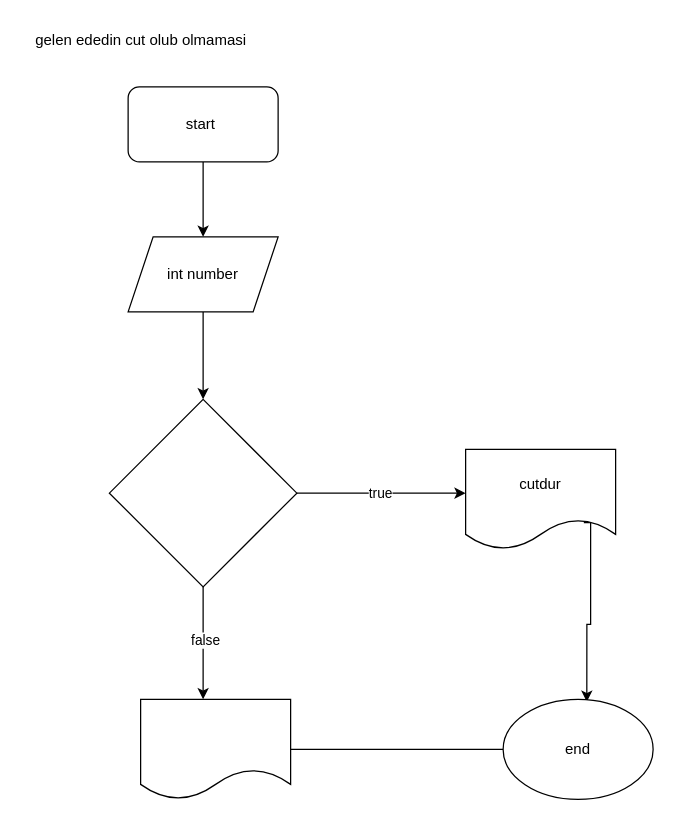
The diagram is 675 pixels wide and 821 high, and some of its shapes have lost their labels. Here are the shapes that lost their labels. From the top down, the centre of each, then its label:
At pixel 202 492: "number%2=0".
At pixel 215 748: "cut deyil".
